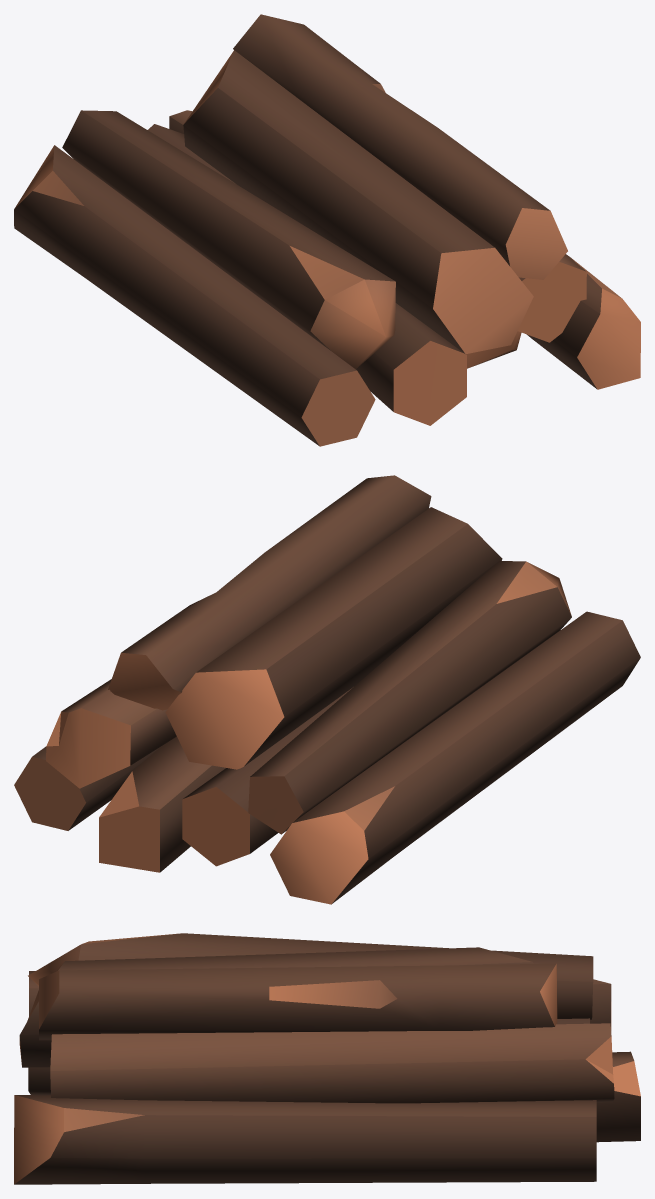
File: Wood_Pile_1B.fbx
The picture shows the model from 3 angles, top to bottom: view 1: azimuth 30°, elevation 25°; view 2: azimuth 150°, elevation 25°; view 3: azimuth 270°, elevation 25°; orthographic projection. The views are drawn at different scales.
Visible parts, largest first — view 1: Wood_Pile_1B; view 2: Wood_Pile_1B; view 3: Wood_Pile_1B.
Boxes of the visible parts, bbox=[...] form: Wood_Pile_1B: bbox=[14, 14, 640, 446]; Wood_Pile_1B: bbox=[14, 475, 640, 904]; Wood_Pile_1B: bbox=[14, 933, 640, 1184].
Size of the model in its own units: 130 by 65.25 by 206.
